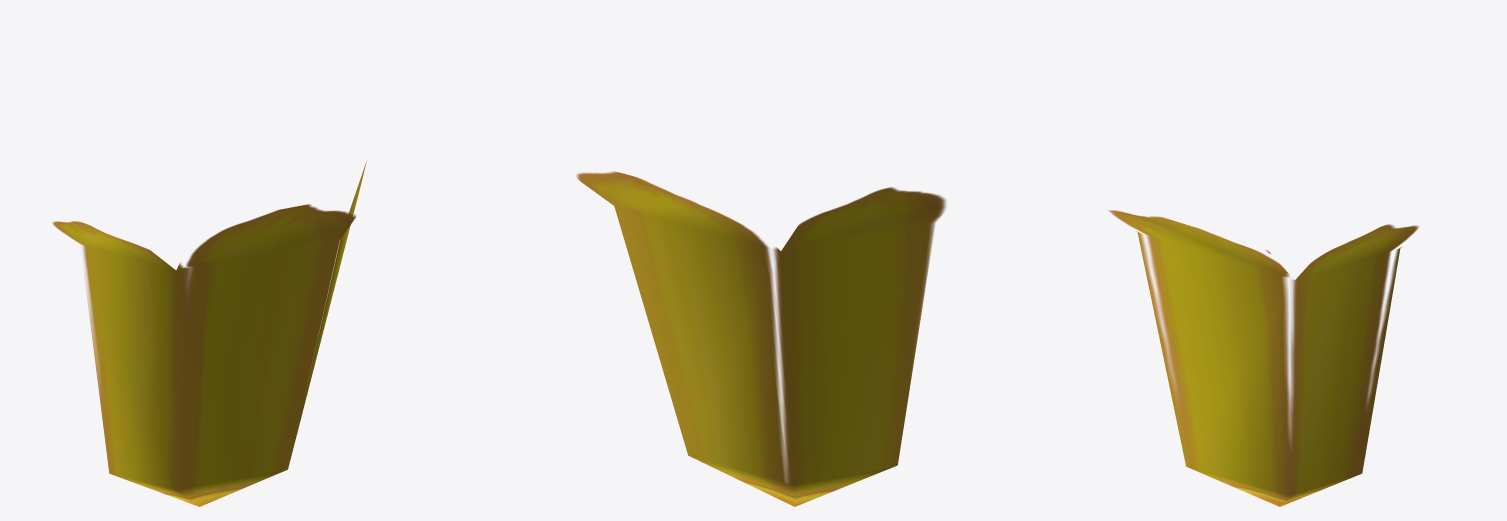
The model's file is flower_petal_3.glb.
3 renders of one model, left to right at view 1: azimuth 30°, elevation 25°; view 2: azimuth 150°, elevation 25°; view 3: azimuth 270°, elevation 25°, orthographic. The views are drawn at different scales.
Visible parts, largest first — view 1: Petal_4; view 2: Petal_4; view 3: Petal_4.
Part boxes in pixels (x1=…): Petal_4: x1=52, y1=161, x2=366, y2=506; Petal_4: x1=576, y1=171, x2=946, y2=506; Petal_4: x1=1108, y1=210, x2=1418, y2=506.
Bounding box in the file's own units: 0.3291 × 0.2521 × 0.2445.
1 material, 1 textured.
